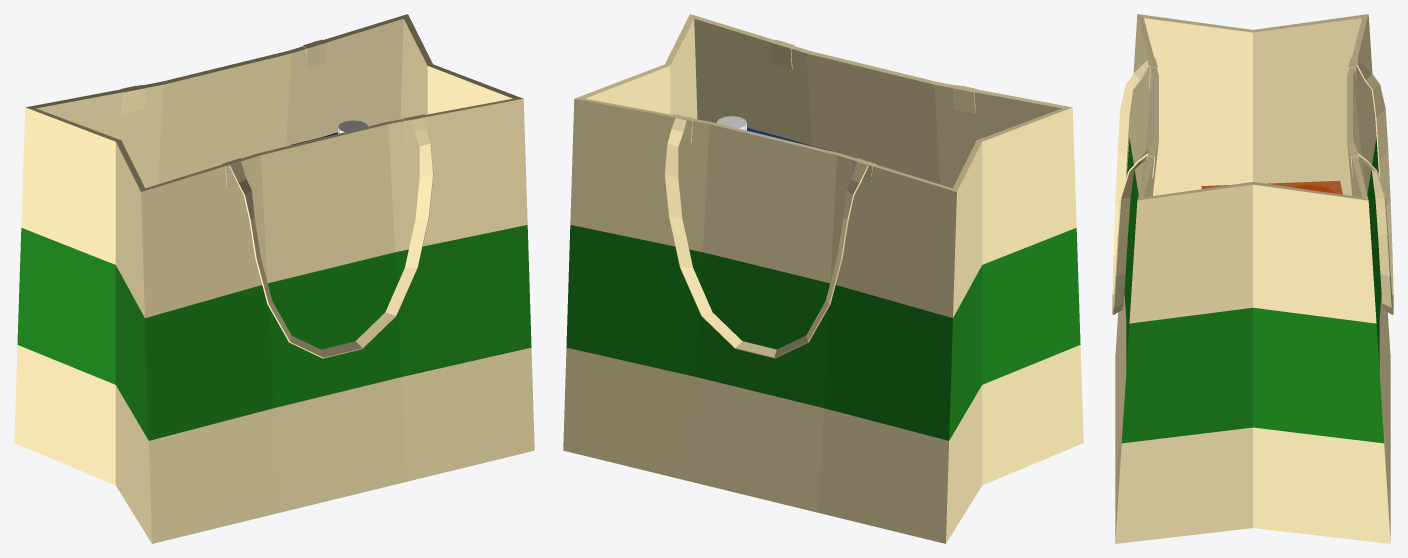
The model's file is Shopping Bag 1.fbx.
3 views of the same model, side by side, from view 1: azimuth 30°, elevation 25°; view 2: azimuth 150°, elevation 25°; view 3: azimuth 270°, elevation 25° (orthographic).
Visible parts, largest first — view 1: Node 0; view 2: Node 0; view 3: Node 0, Node 1.
Part boxes in pixels (left/top/right/bottom): Node 0: left=14, top=14, right=534, bottom=543; Node 0: left=563, top=14, right=1083, bottom=543; Node 0: left=1112, top=14, right=1393, bottom=543; Node 1: left=1201, top=180, right=1342, bottom=194.
Size of the model in its own units: 0.1908 by 0.2575 by 0.2996.
